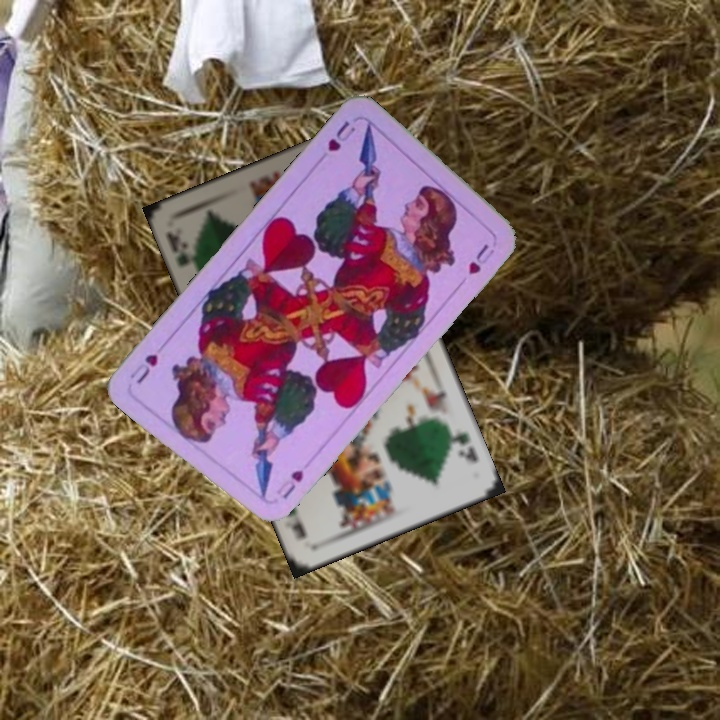GK: (162, 227, 201, 276), (444, 422, 482, 465)
HU: (323, 116, 359, 154), (272, 465, 307, 502)
